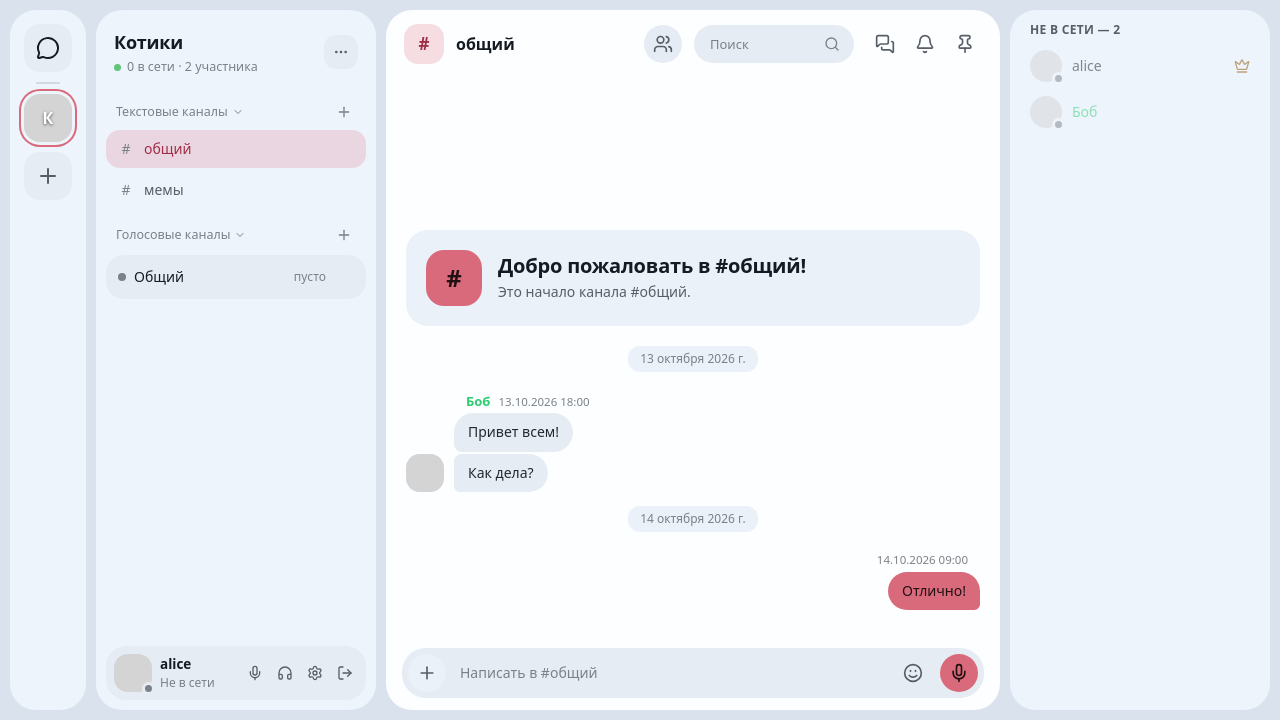
Test case: mention suggestions › offer text channels after #, picked with the mouse or arrows
Type "см. #" into the text box named "Сообщение в #общий".
click(670, 673); type("см. #")  # box x1=454 y1=654 x2=886 y2=692
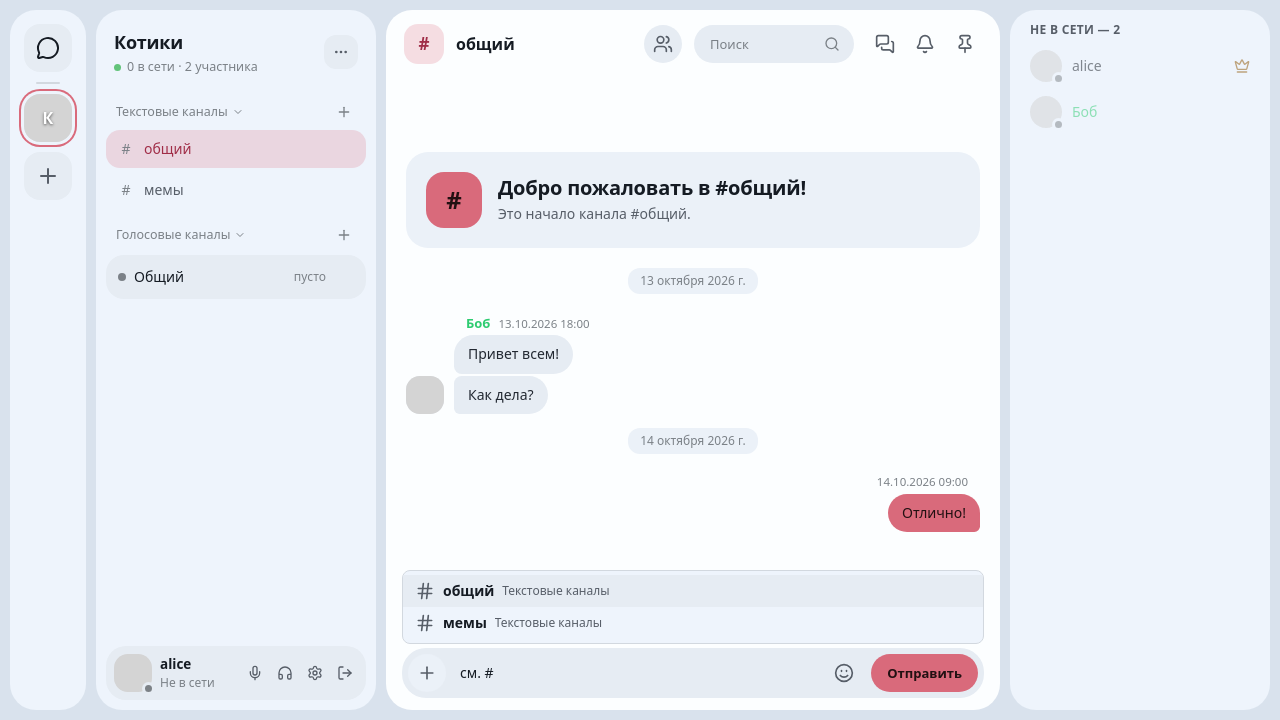
Click the option "мемы Текстовые каналы".
click(508, 623)  # box x1=415 y1=613 x2=602 y2=633
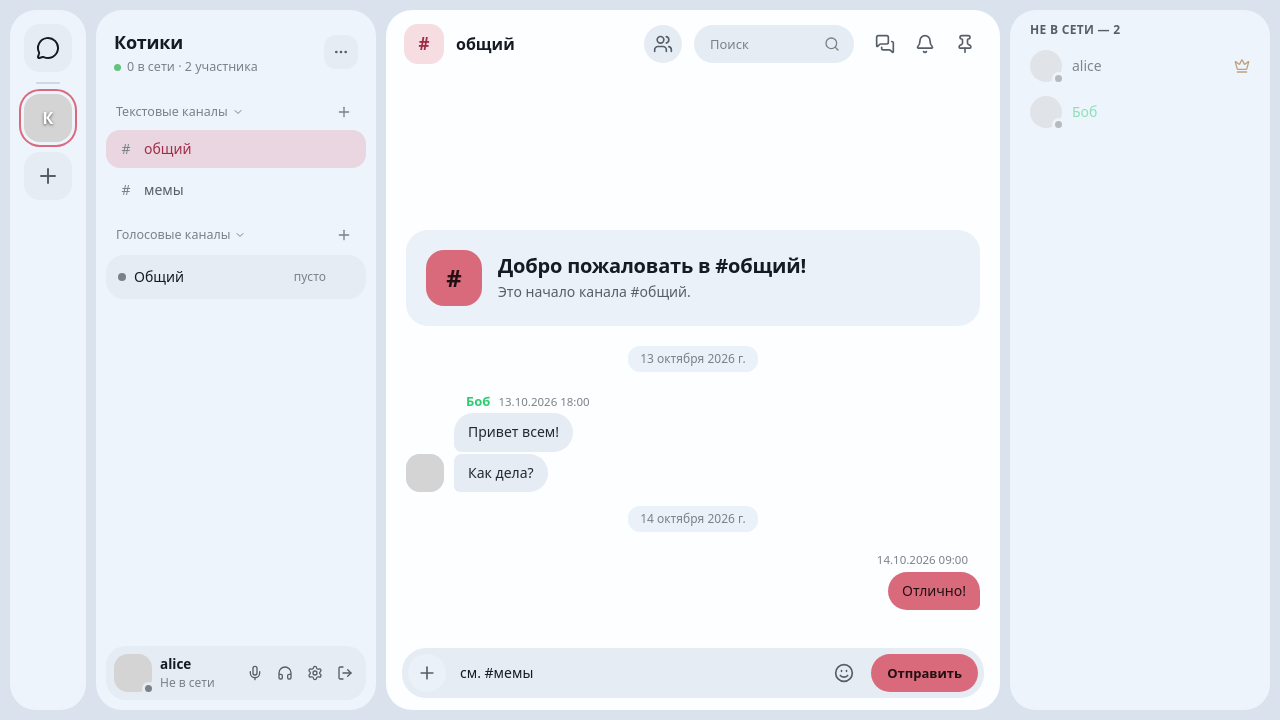
expect the text box named "Сообщение в #общий" holds "см. #мемы ": met, box x1=454 y1=654 x2=817 y2=692
